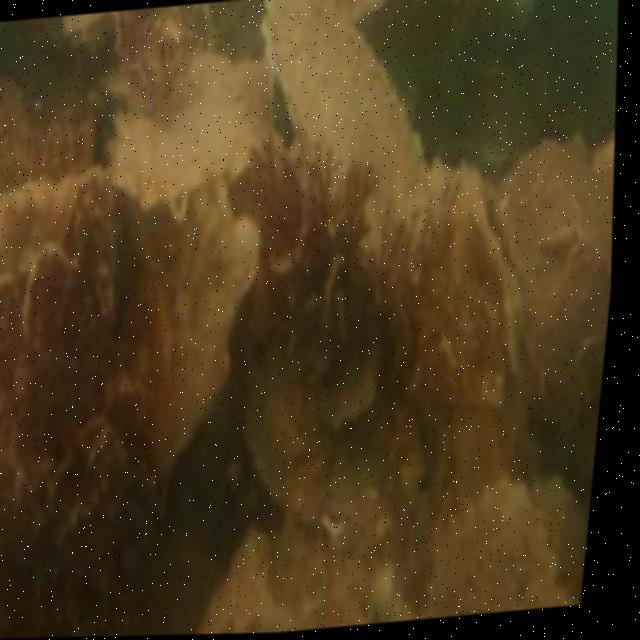Oyster-Closed: (389, 161, 542, 421)
Oyster-Indeterminate: (258, 0, 429, 262), (139, 174, 265, 485), (503, 137, 613, 432), (108, 52, 265, 203), (422, 477, 568, 619), (244, 354, 327, 509)
Oyster-Open: (315, 364, 377, 448)
